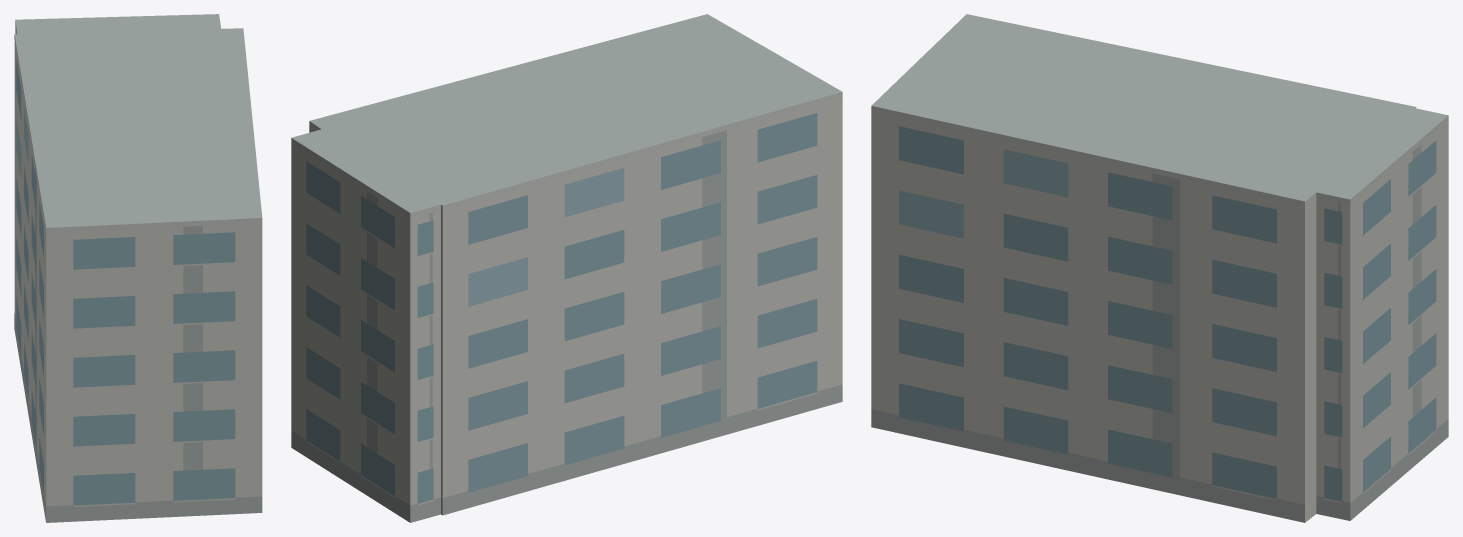
Rendered from survey-upis-32962554.glb.
3 views of the same model, side by side, from view 1: azimuth 30°, elevation 25°; view 2: azimuth 150°, elevation 25°; view 3: azimuth 270°, elevation 25° (orthographic). The views are drawn at different scales.
Parts seen in each view (by area): view 1: survey-upis-32962554.tmp; view 2: survey-upis-32962554.tmp; view 3: survey-upis-32962554.tmp.
Boxes of the visible parts, x1=… form: survey-upis-32962554.tmp: x1=14, y1=14, x2=262, y2=522; survey-upis-32962554.tmp: x1=291, y1=14, x2=842, y2=522; survey-upis-32962554.tmp: x1=871, y1=14, x2=1448, y2=522.
Bounding box in the file's own units: 17.27 × 13.8 × 22.47.
